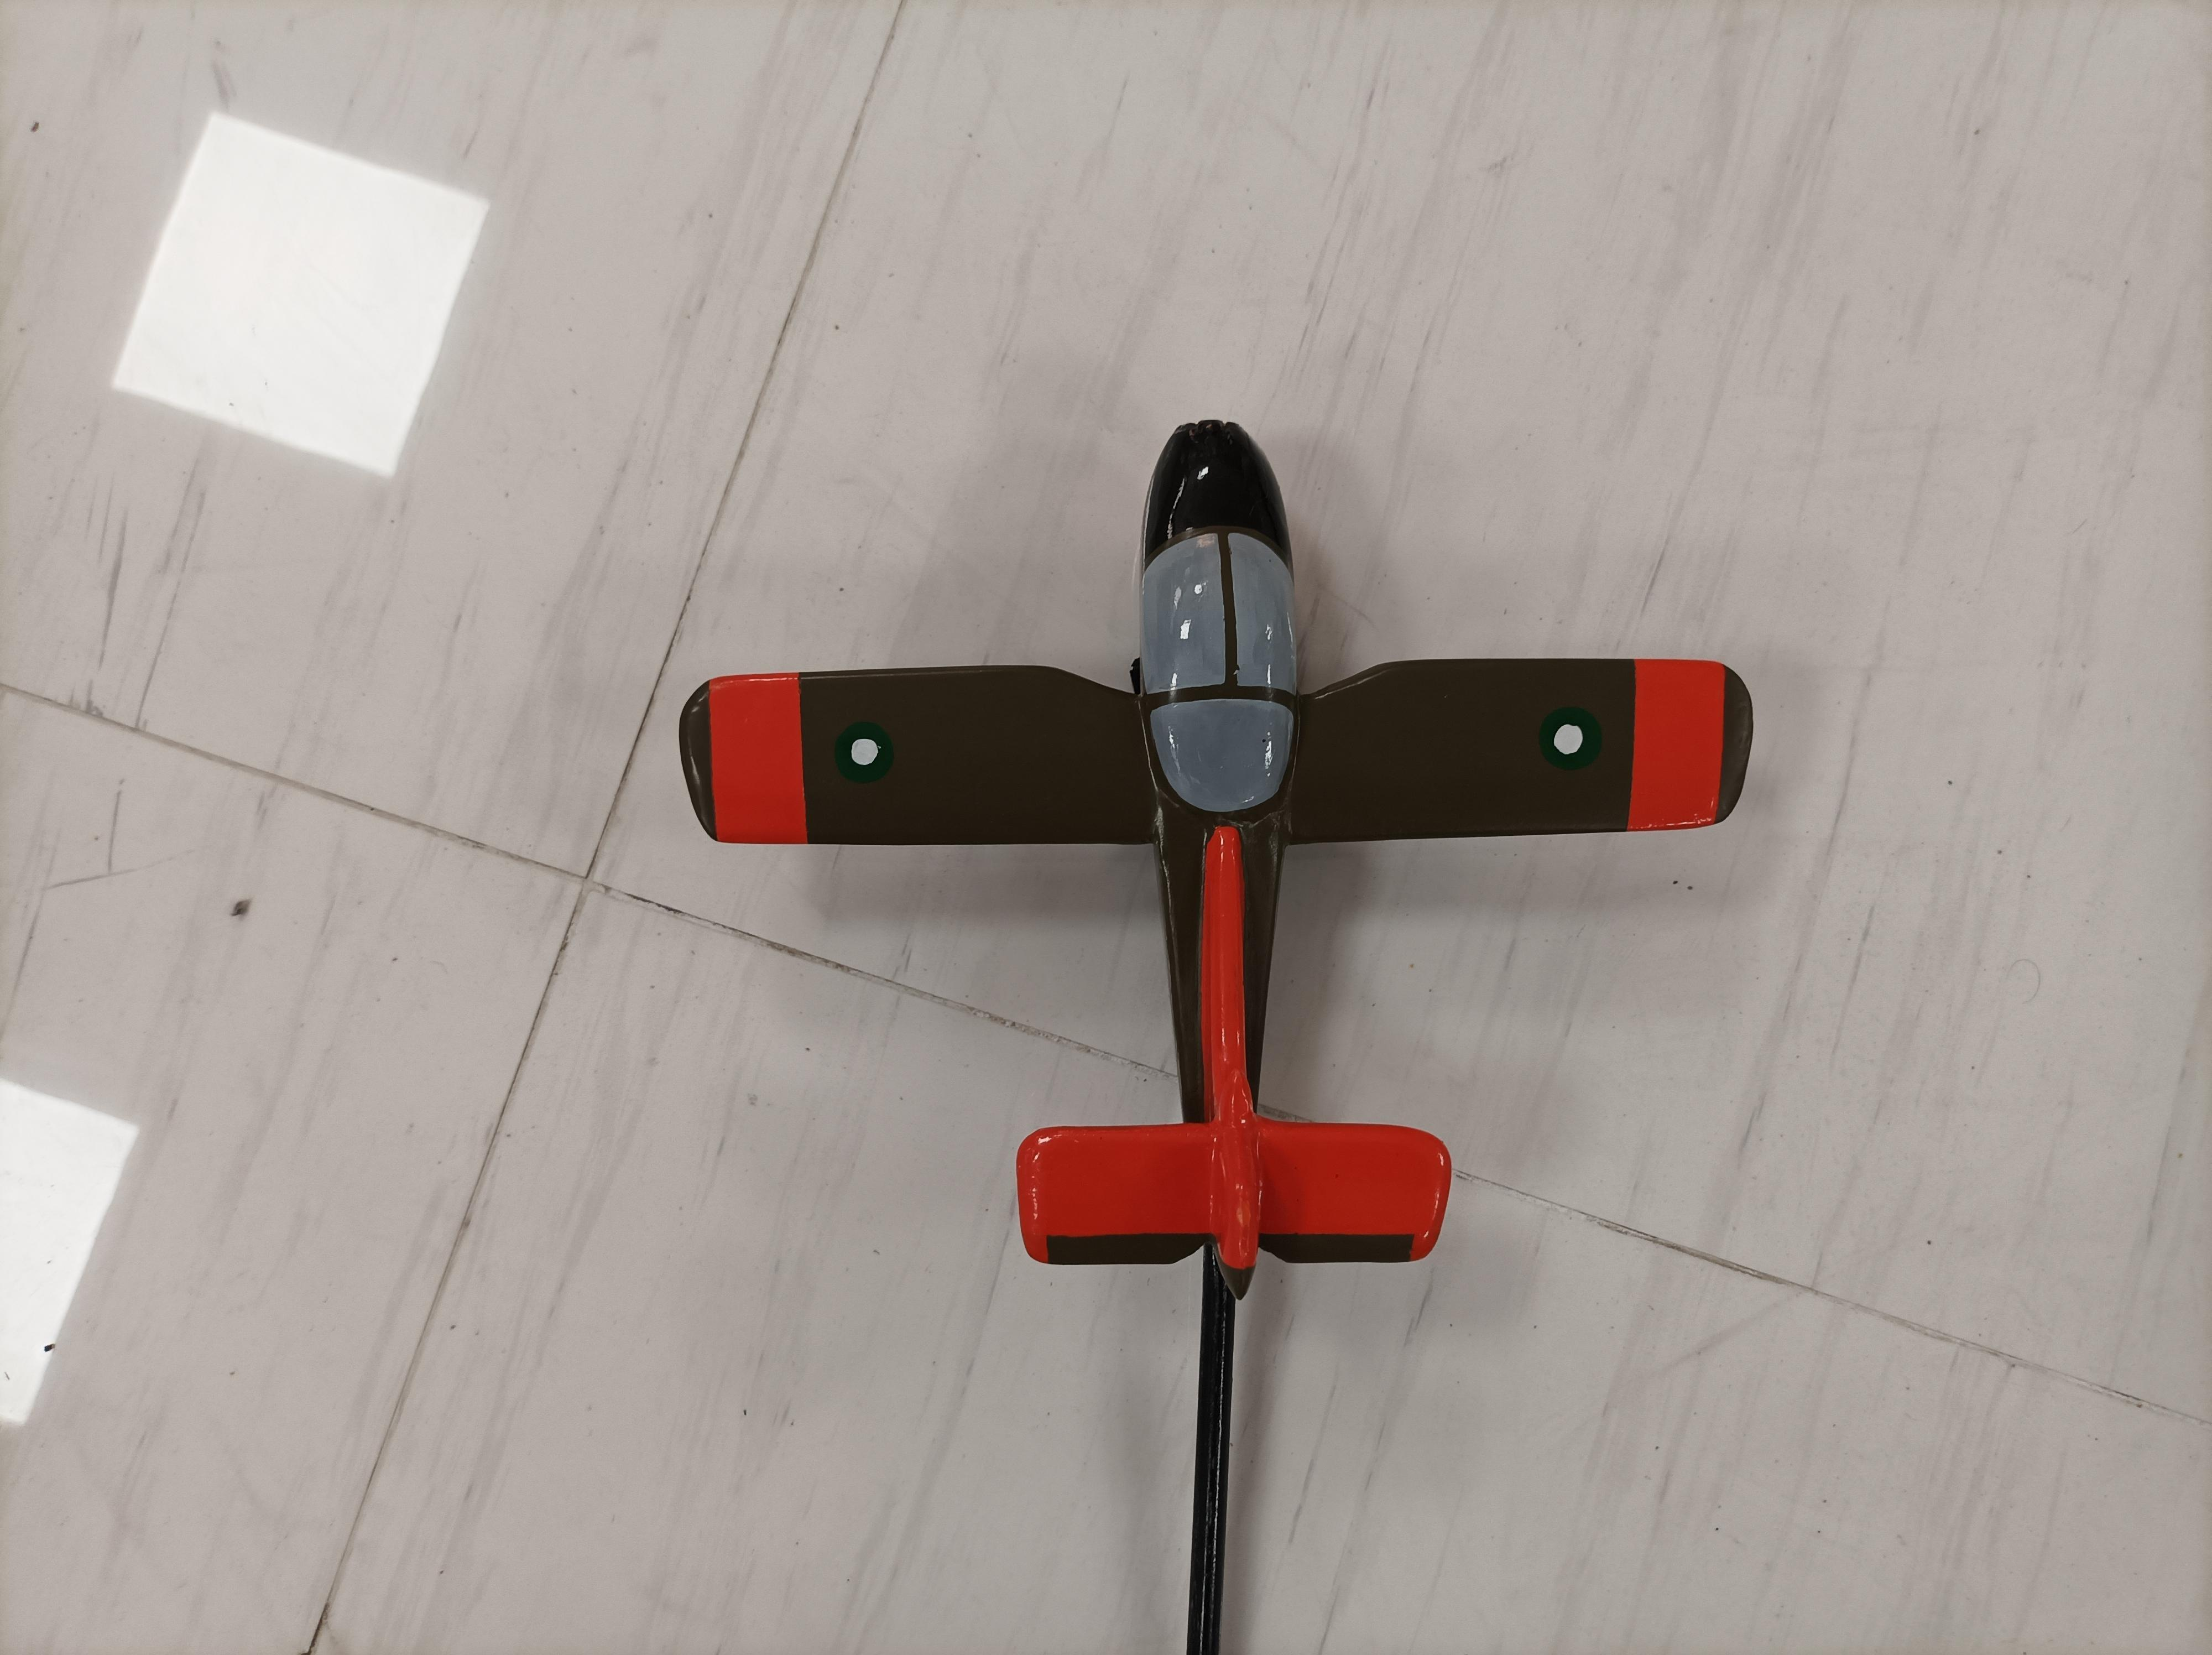Airplane: (679, 409, 1772, 1295)
